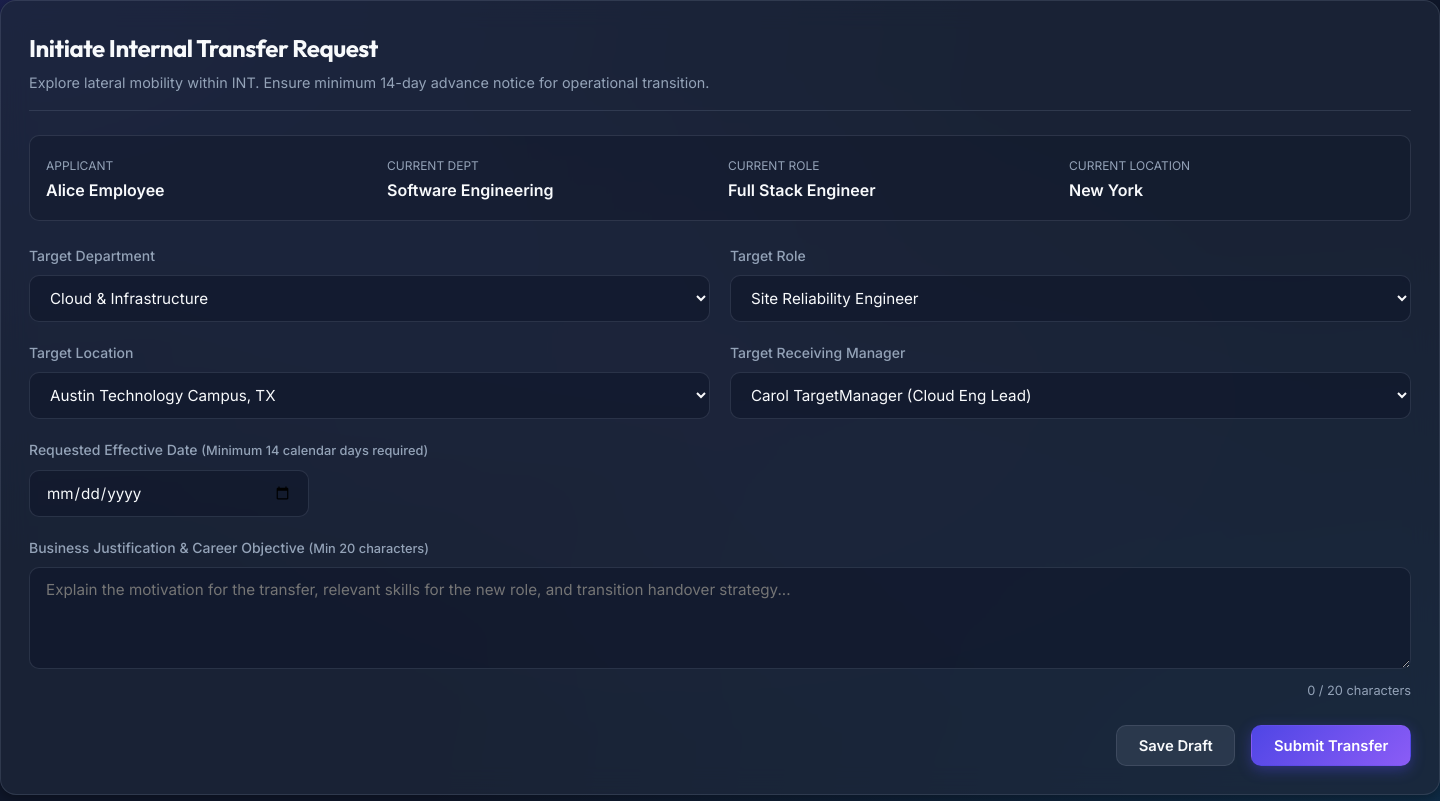
TransferInitiationForm Component (T11 — AC01, AC03) › should display error when justification is shorter than 20 characters
Step 1. Type "2026-11-15" into the date field labelled "Requested Effective Date (Minimum 14 calendar days required)" → point(169, 493), box [29,470,309,517]
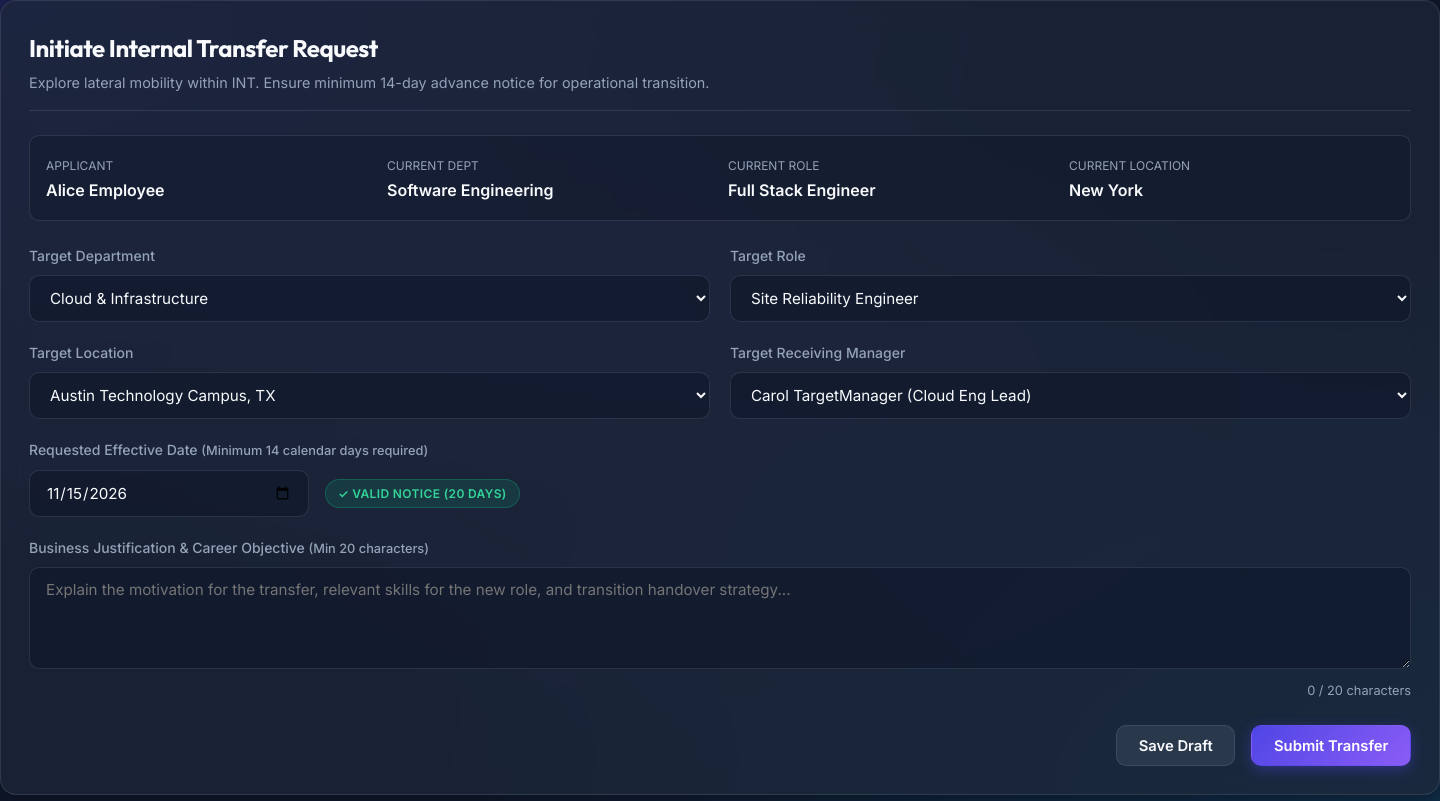
Step 2. Replace the text in the text box labelled "Business Justification" with "Too short" → point(720, 618), box [29,567,1411,669]
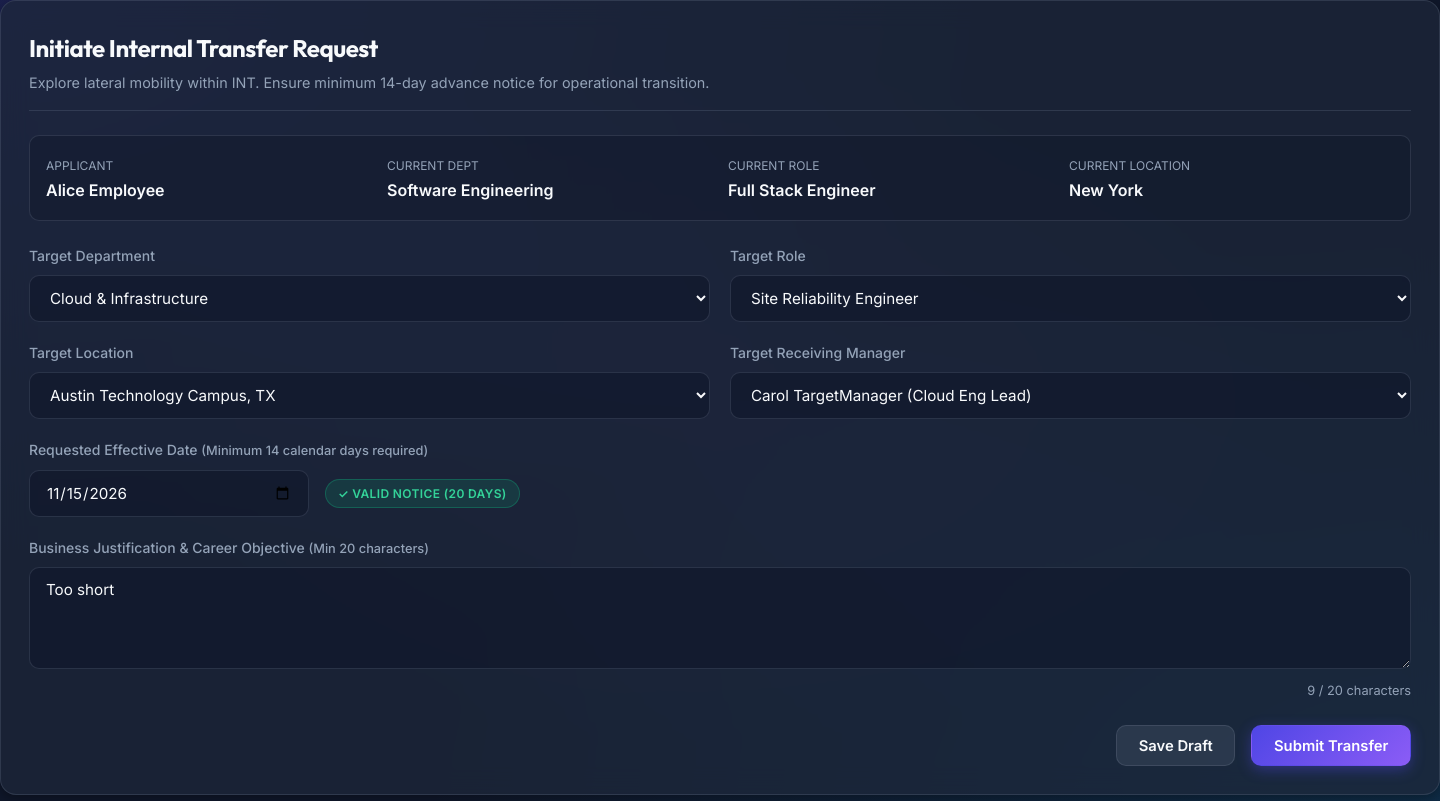
Step 3. Click the button "Submit Transfer" → point(1331, 746), box [1251,725,1411,766]
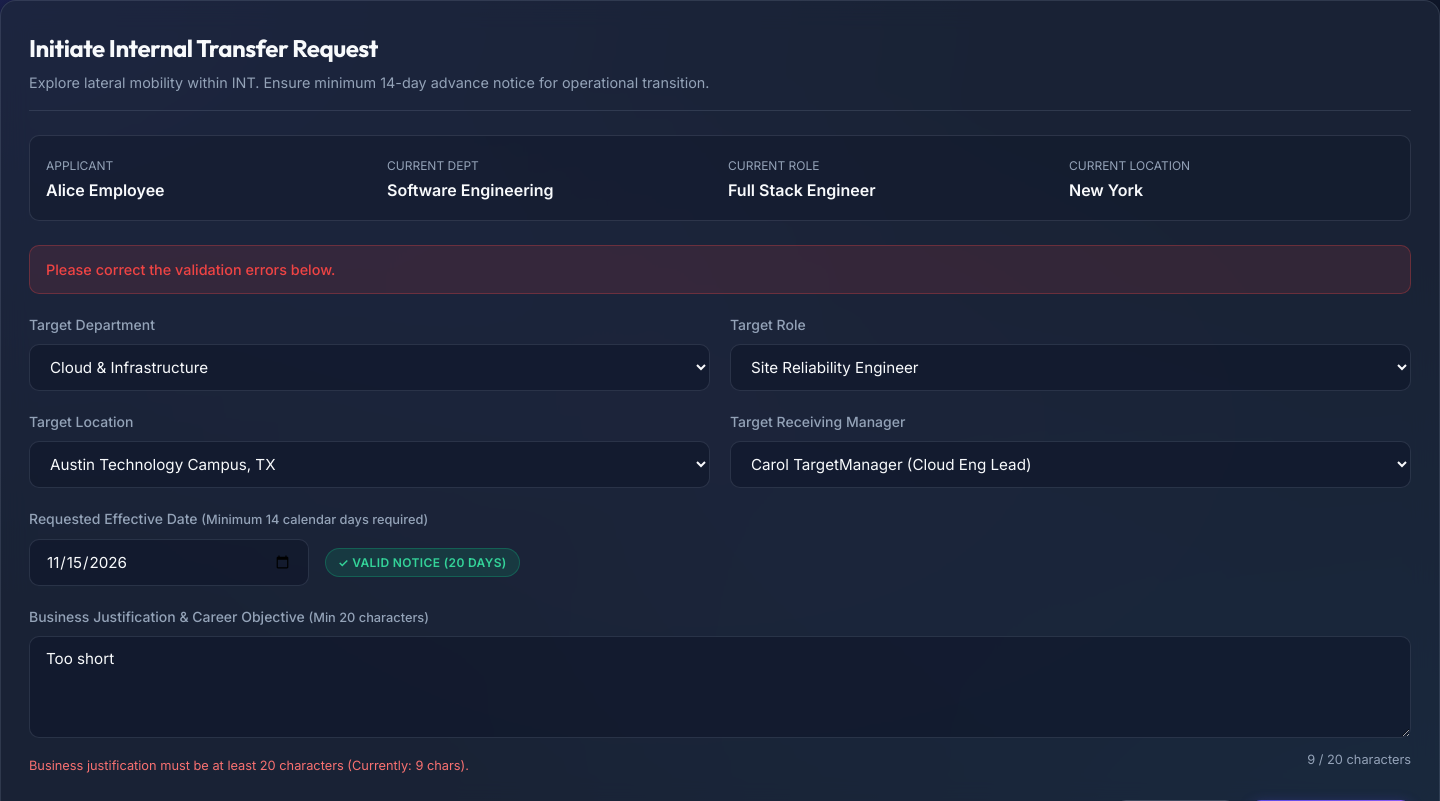
Result: the text "Business justification must be at least 20 characters" is shown at [29,758,469,773]
